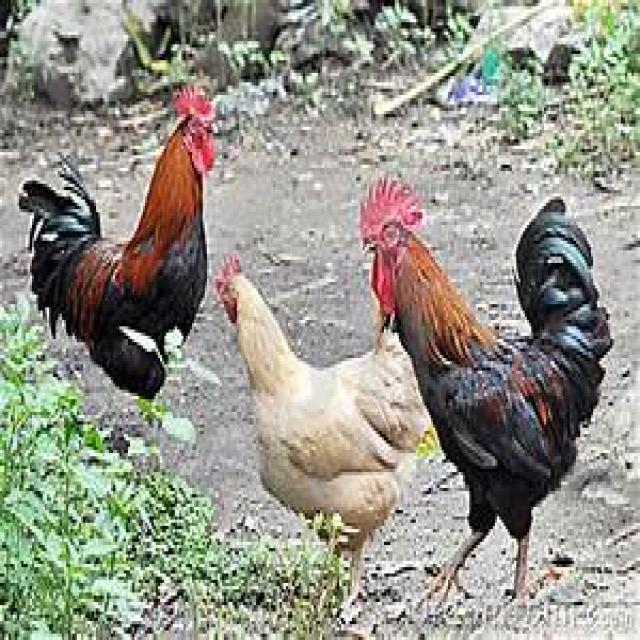hen: (358, 177, 612, 621), (209, 253, 433, 624), (17, 92, 215, 402)
